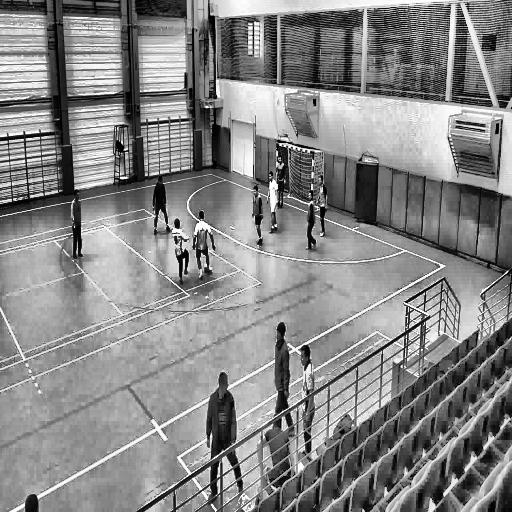ball: (204, 263, 209, 275)
player: (206, 369, 245, 503), (274, 315, 294, 436), (191, 209, 215, 284), (299, 341, 315, 453), (170, 216, 190, 288), (152, 171, 171, 238), (69, 188, 85, 263), (249, 183, 264, 248), (265, 168, 279, 235), (317, 174, 329, 241), (305, 188, 317, 252), (275, 151, 286, 211)
